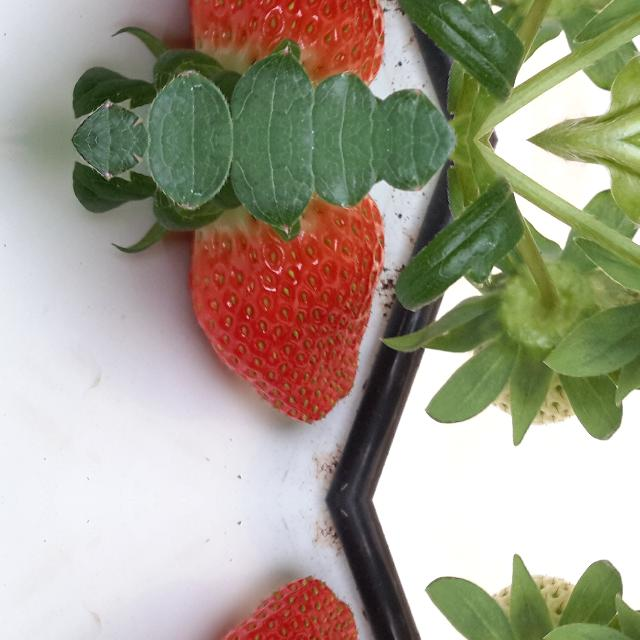Health_100: (188, 193, 386, 424), (188, 0, 385, 86), (188, 575, 385, 640)
